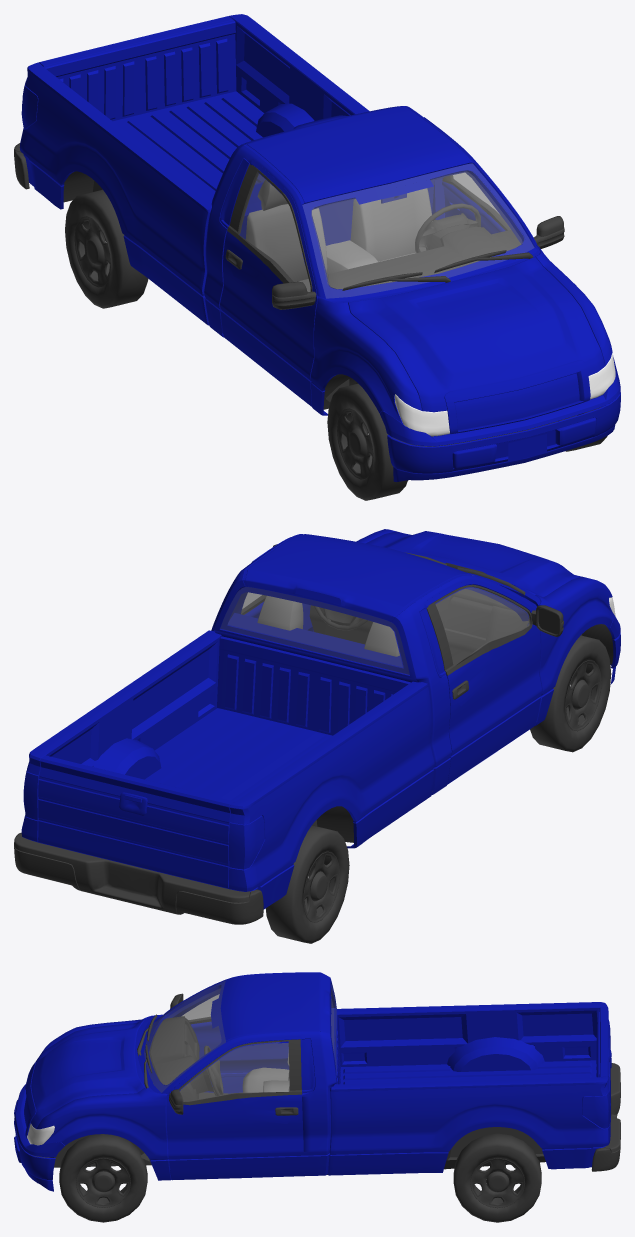
The model's file is araba1.fbx.
3 views of the same model, one above another, from view 1: azimuth 30°, elevation 25°; view 2: azimuth 150°, elevation 25°; view 3: azimuth 270°, elevation 25° (orthographic). The views are drawn at different scales.
Parts seen in each view (by area): view 1: Object016, Object024, Object033, Object014, Object038, Object034, Object037, Object036; view 2: Object016, Object033, Object014, Object038, Object034, Object037; view 3: Object016, Object034, Object024, Object033, Object015, Object037.
Boxes of the visible parts, x1,y1,x2,y2 form: Object016: (14,14,620,500); Object024: (302,163,534,298); Object033: (220,159,317,406); Object014: (350,188,432,261); Object038: (245,179,327,281); Object034: (424,117,564,248); Object037: (415,203,480,252); Object036: (326,240,377,276); Object016: (14,529,620,943); Object033: (424,580,563,784); Object014: (257,596,303,630); Object038: (364,622,399,656); Object034: (241,537,313,631); Object037: (314,606,367,630); Object016: (14,972,620,1222); Object034: (166,1035,305,1180); Object024: (144,981,225,1092); Object033: (170,985,289,1093); Object015: (242,1067,289,1092); Object037: (190,1045,223,1095).
Bounding box in the file's own units: 185 × 148 × 448.
